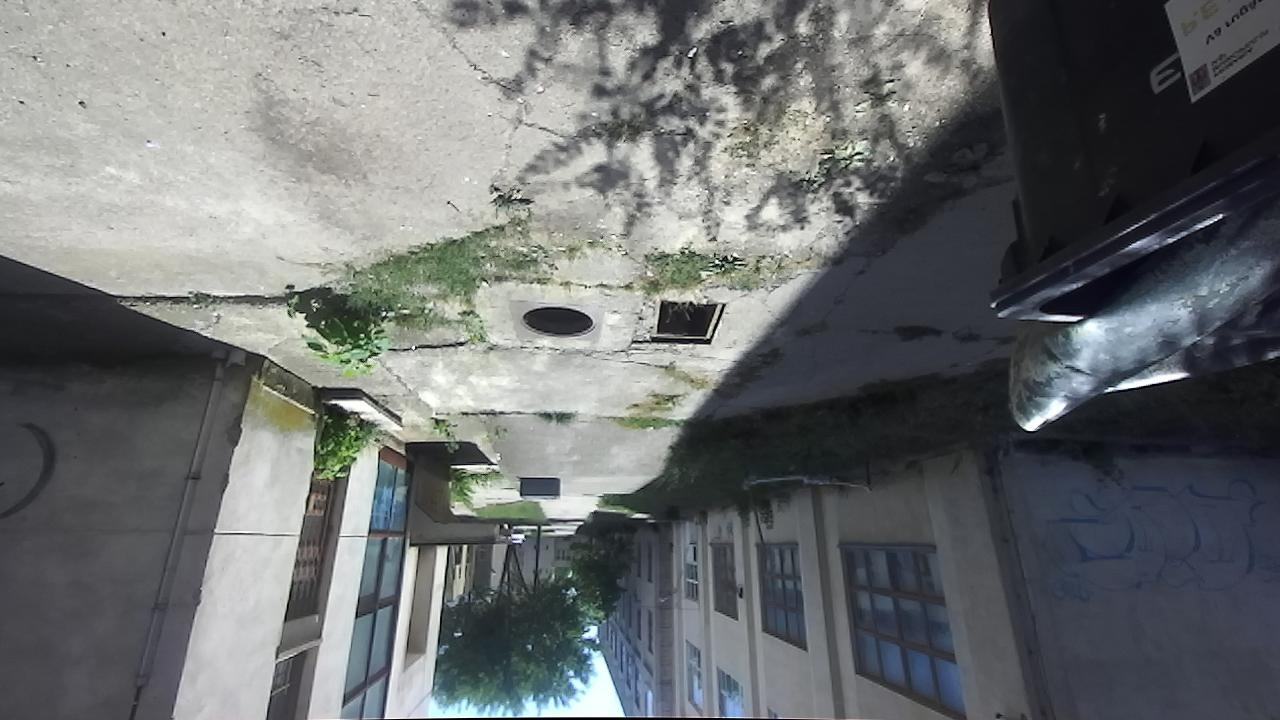drain: (629, 297, 730, 347), (515, 304, 604, 339)
